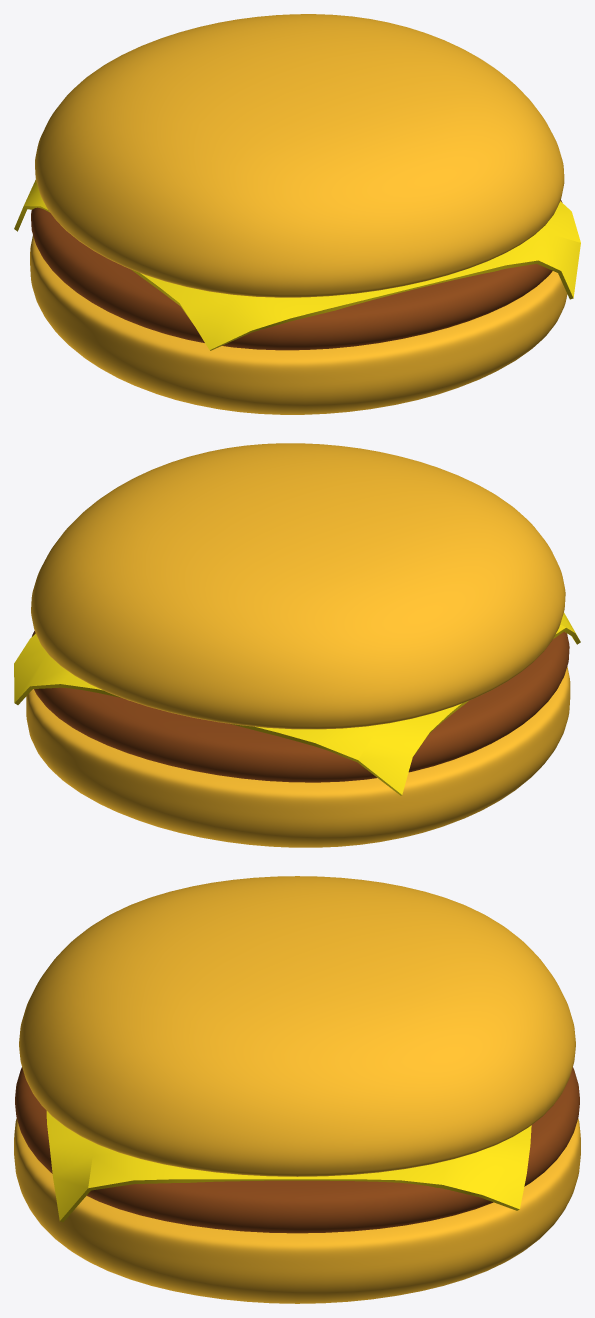
File: hamburger.glb
3 renders of one model, top to bottom at view 1: azimuth 30°, elevation 25°; view 2: azimuth 150°, elevation 25°; view 3: azimuth 270°, elevation 25°, orthographic. The views are drawn at different scales.
Visible parts, largest first — view 1: Cube.002, Cube, Cube.001, Plane; view 2: Cube.002, Cube, Cube.001, Plane; view 3: Cube.002, Cube, Cube.001, Plane.
Boxes of the visible parts, x1=… form: Cube.002: x1=35, y1=14, x2=564, y2=297; Cube: x1=30, y1=235, x2=567, y2=414; Cube.001: x1=31, y1=200, x2=562, y2=350; Plane: x1=14, y1=179, x2=580, y2=350; Cube.002: x1=31, y1=443, x2=565, y2=729; Cube: x1=26, y1=666, x2=570, y2=847; Cube.001: x1=32, y1=631, x2=569, y2=782; Plane: x1=14, y1=613, x2=580, y2=795; Cube.002: x1=19, y1=876, x2=575, y2=1176; Cube: x1=14, y1=1118, x2=580, y2=1303; Cube.001: x1=15, y1=1067, x2=579, y2=1233; Plane: x1=46, y1=1111, x2=531, y2=1222.
Size of the model in its own units: 9.15 by 5.2 by 9.15.
